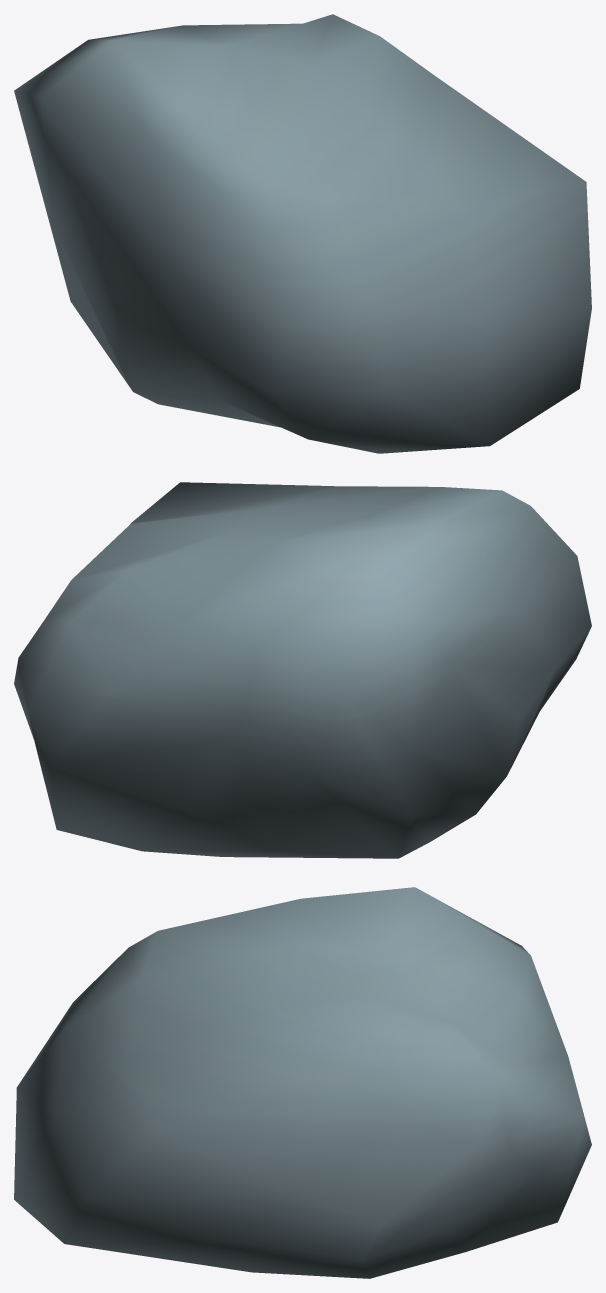
File: Rock-2.fbx
The picture shows the model from 3 angles, top to bottom: view 1: azimuth 30°, elevation 25°; view 2: azimuth 150°, elevation 25°; view 3: azimuth 270°, elevation 25°; orthographic projection. The views are drawn at different scales.
Parts seen in each view (by area): view 1: Rock-2; view 2: Rock-2; view 3: Rock-2.
Boxes of the visible parts, <box> form: Rock-2: <box>14,14,591,453</box>; Rock-2: <box>14,482,591,858</box>; Rock-2: <box>14,887,591,1278</box>.
Size of the model in its own units: 141 by 101 by 186.
